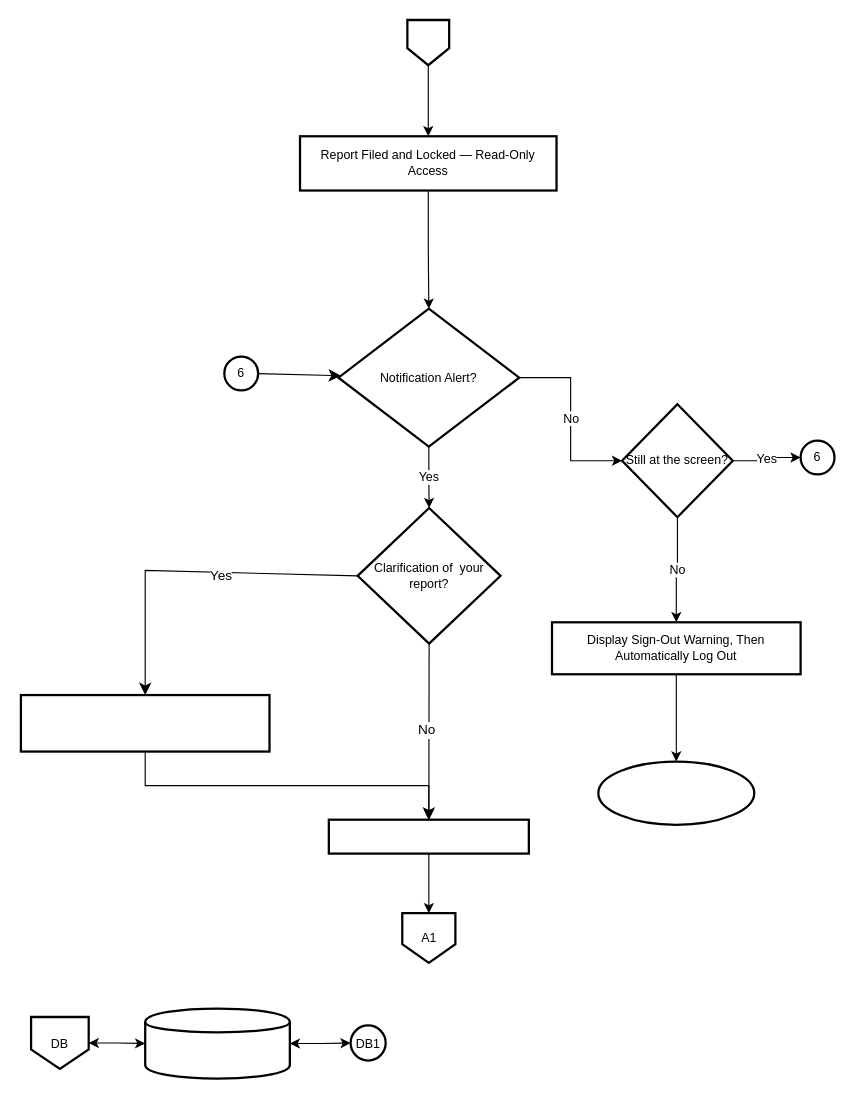
Image size: 854x1099. Some labels were removed from this diagram. The shapes that lost their labels are listed below. From the top down, each one's centre as x and y in pixels, then its label:
the point at 428,42: K1
the point at 144,722: Contact the Office for Report Changes — Only an Admin Can Modify Filed Reports
the point at 676,792: END
the point at 428,836: Close
the point at 217,1043: Database
